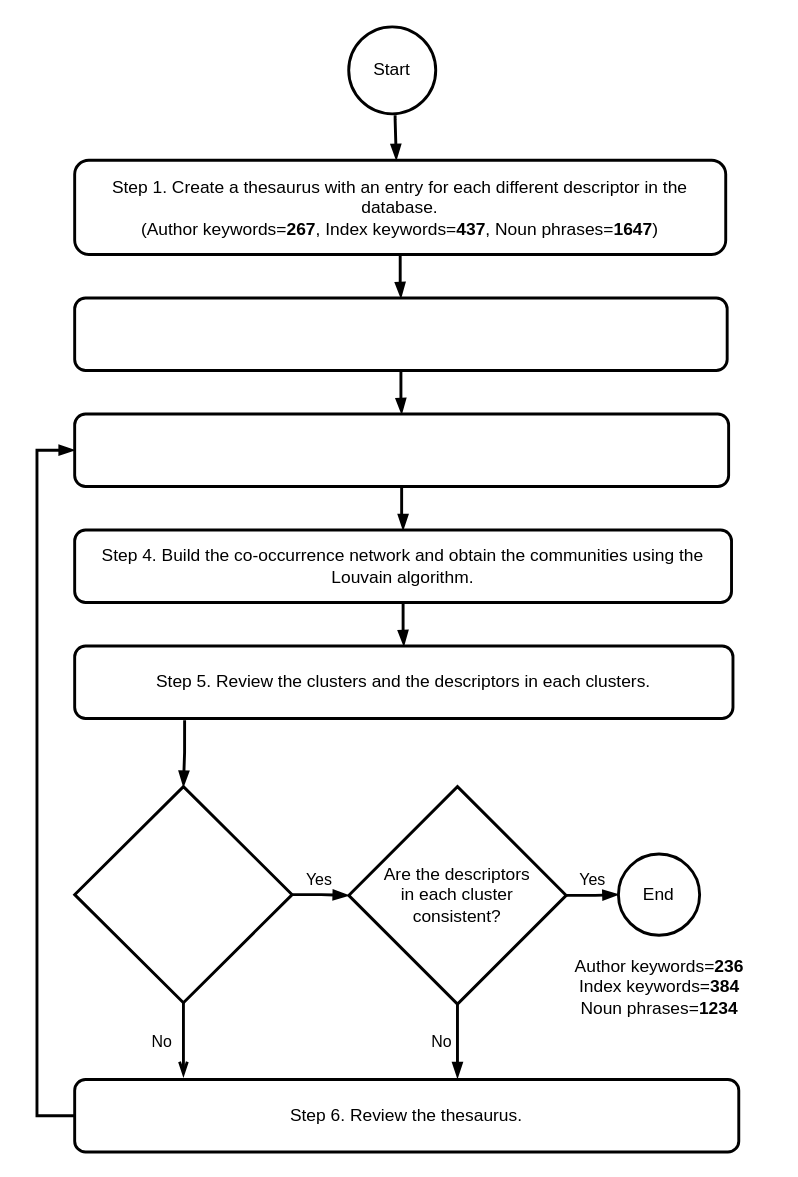
This 798x1177 diagram has some shape labels left out. Here are the shapes that lost their labels. From the top down, the centre of each, then its label:
At [400,333]: "Step 2. Search and replace abbreviations in the keys of the thesaurus.".
At [400,449]: "Step 3. Apply the thesaurus to the descriptors in the database.".
At [182,893]: "Are the clusters consistent?".
